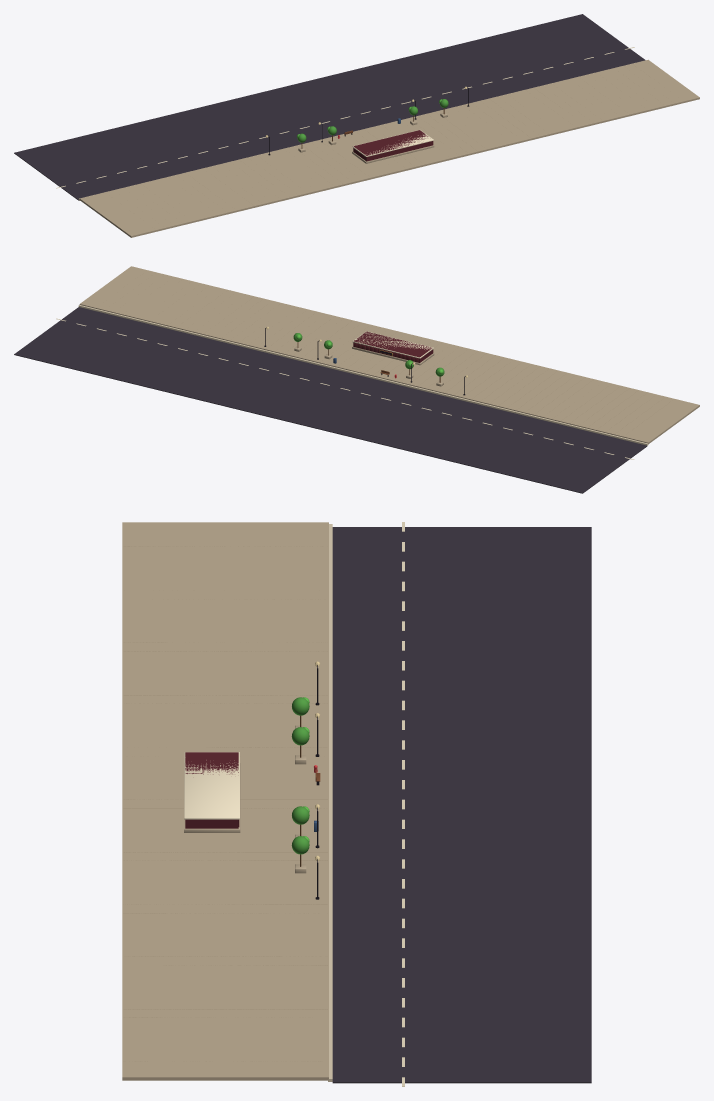
3 renders of one model, top to bottom at view 1: azimuth 30°, elevation 25°; view 2: azimuth 150°, elevation 25°; view 3: azimuth 270°, elevation 25°, orthographic. The views are drawn at different scales.
Parts seen in each view (by area): view 1: Base.001; view 2: Base.001; view 3: Base.001.
Part boxes in pixels (x1,y1,x2,y2): Base.001: (14, 14, 699, 237); Base.001: (14, 266, 699, 493); Base.001: (122, 522, 591, 1086).
Bounding box in the file's own units: 142 × 5.47 × 50.
